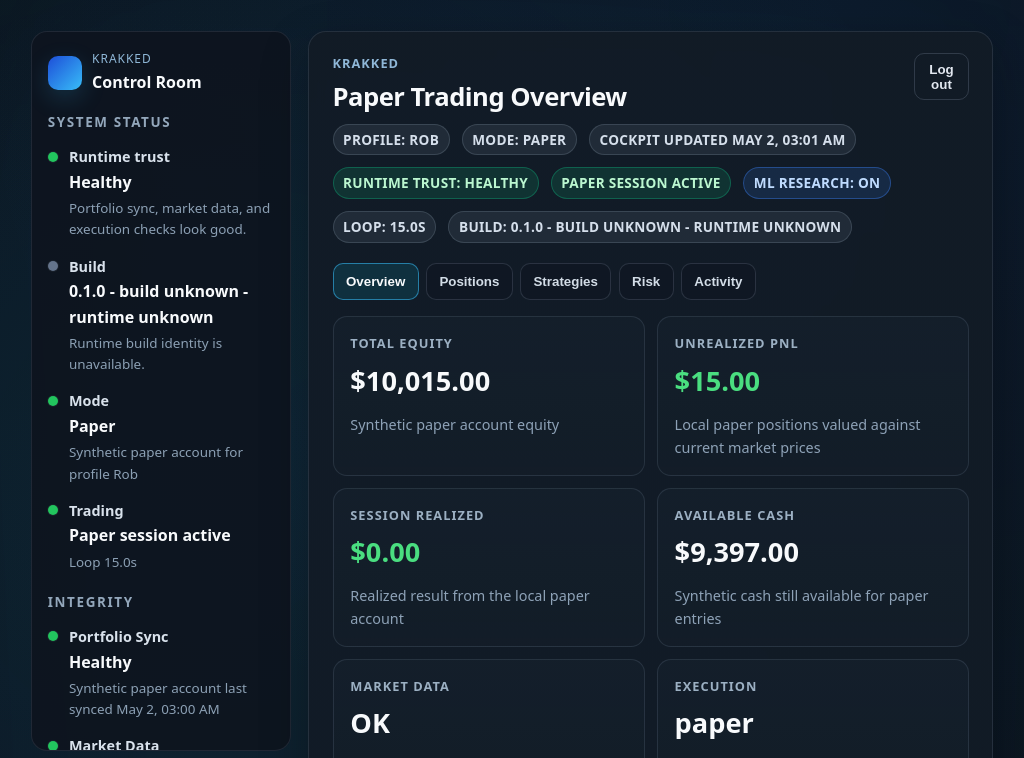
it: cockpit operator paths › switches cockpit tabs without hitting danger actions
Expected: the heading "Paper Trading Overview" is shown, [332,79,627,114]
Expected: the text "Runtime trust: Healthy" is shown, [332,167,539,199]
Click the button with test id "cockpit-tab-positions". click: (469, 281)
box: [426,263,513,300]
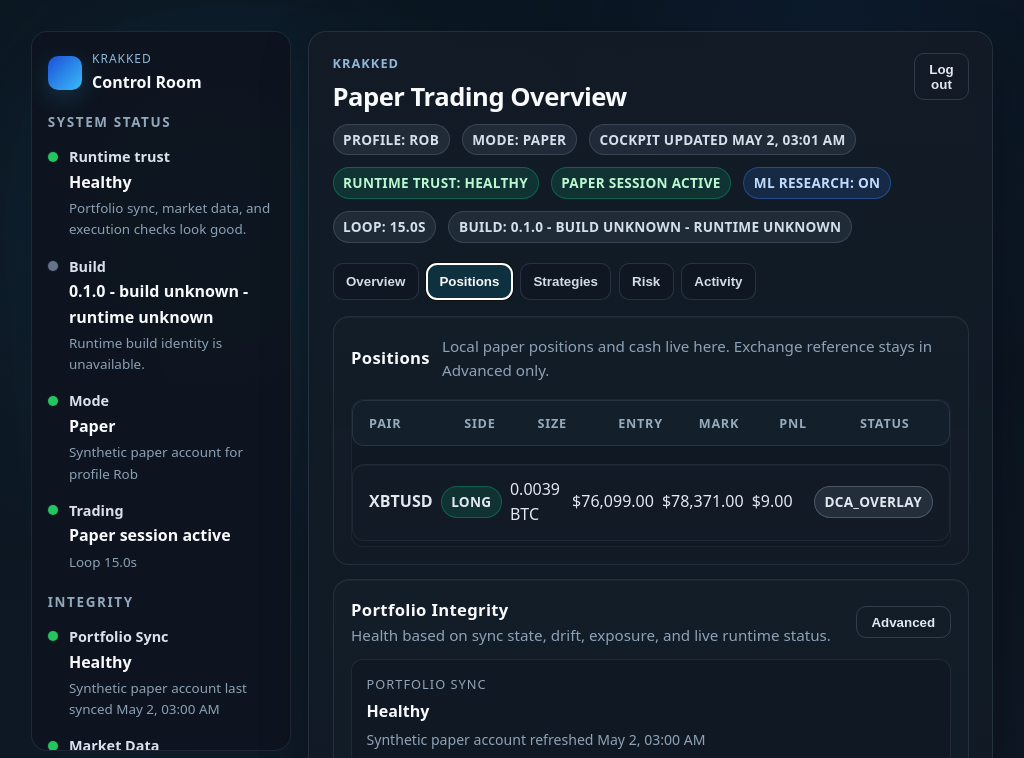
Expected: the table named "Positions" is shown, [351,399,950,547]
Expected: the text "XBTUSD" is shown, [369,489,433,515]
